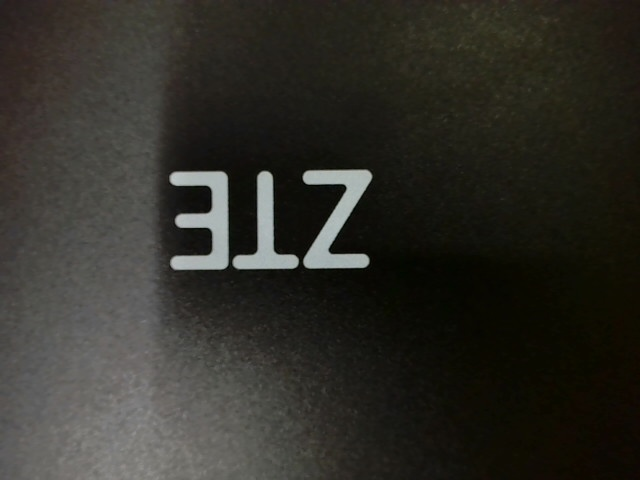AN_ZTE: (156, 161, 390, 277)
